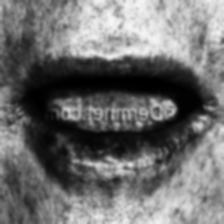Potentially Malignant Skin Tumors: (78, 129, 124, 169)
